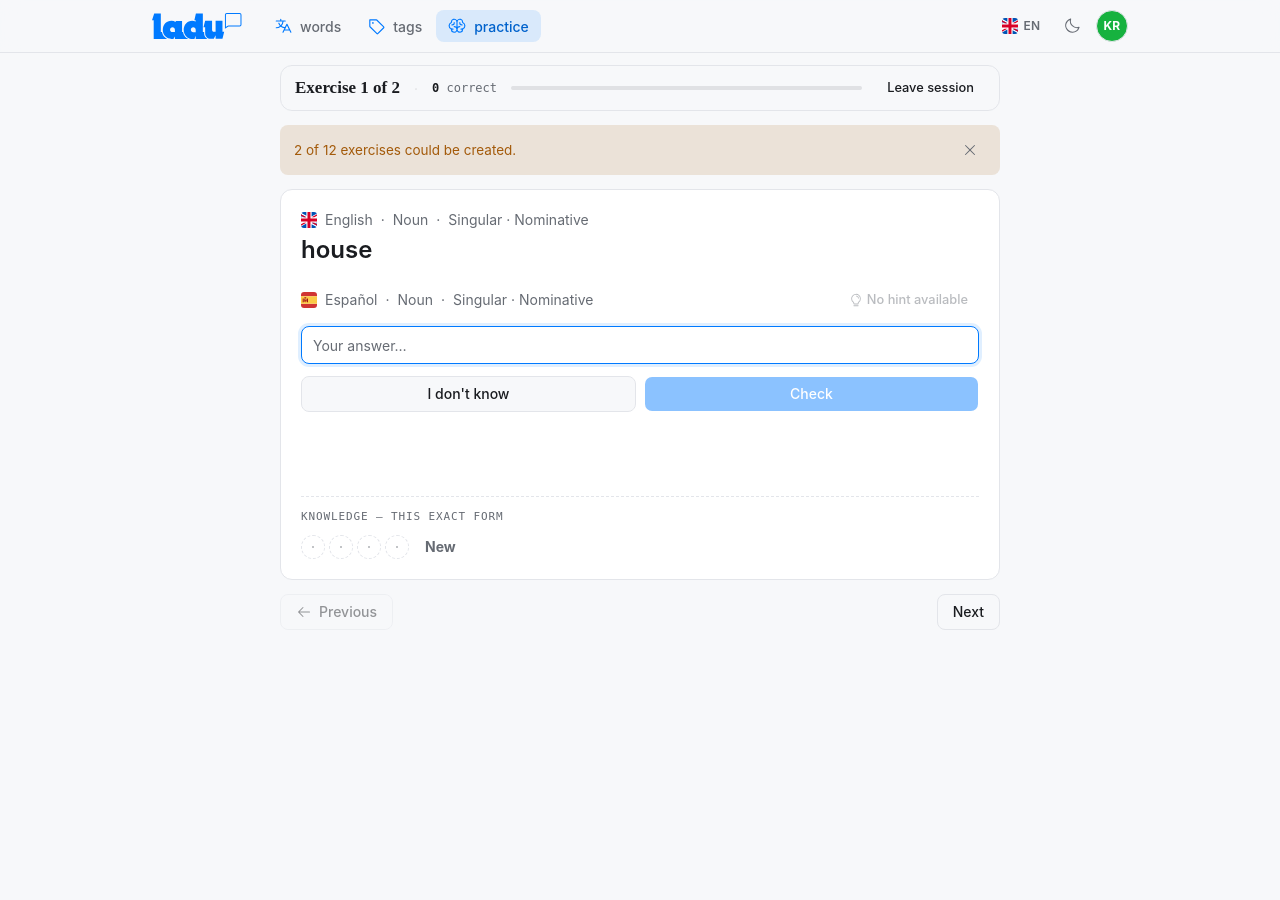
it: Leave dialog › keeps everything when the user chooses to keep practicing
Click the button "Leave session" at (931, 88), box x1=876 y1=74 x2=985 y2=102
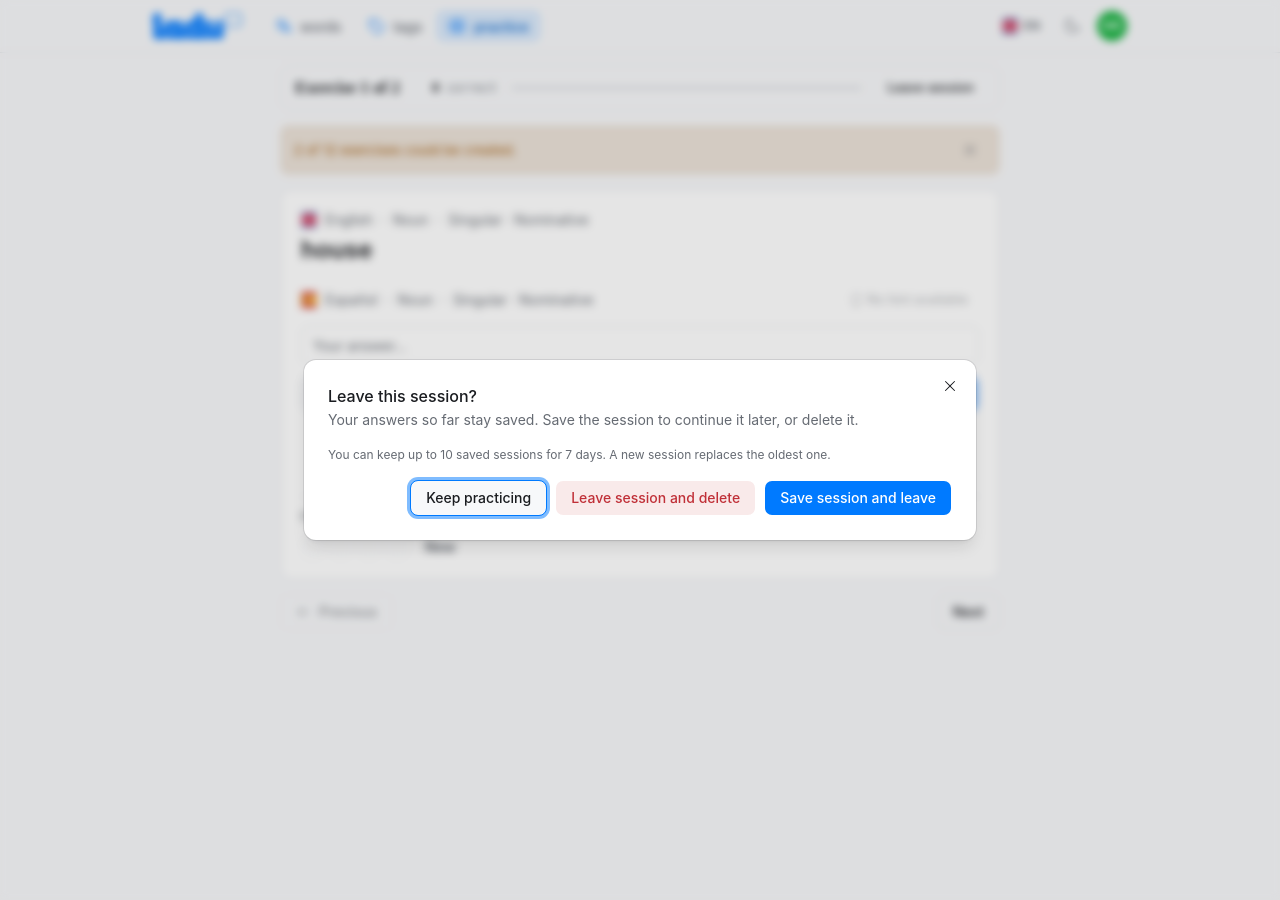
Click the button "Keep practicing" at (479, 498), box x1=410 y1=480 x2=547 y2=516
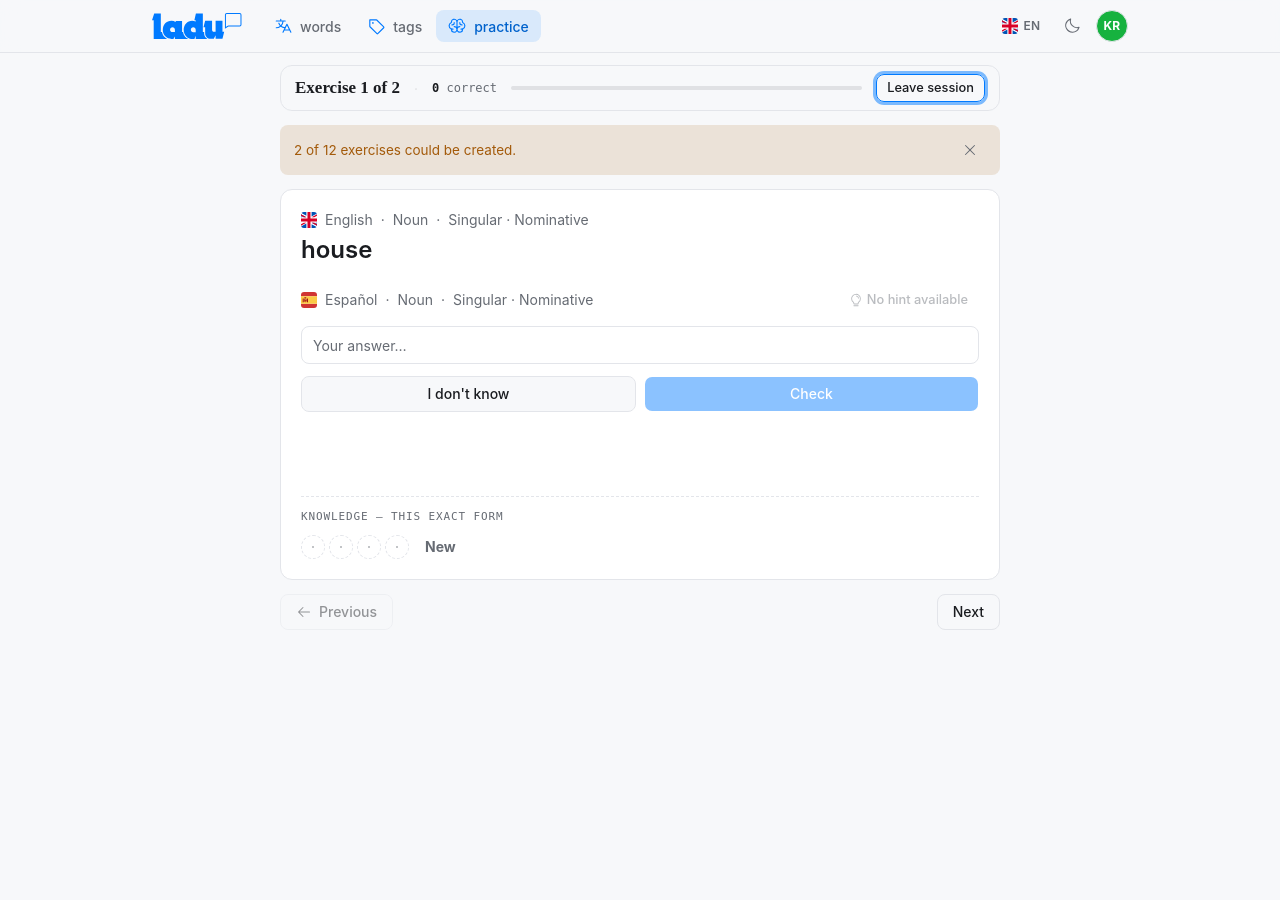
Result: the dialog is gone
